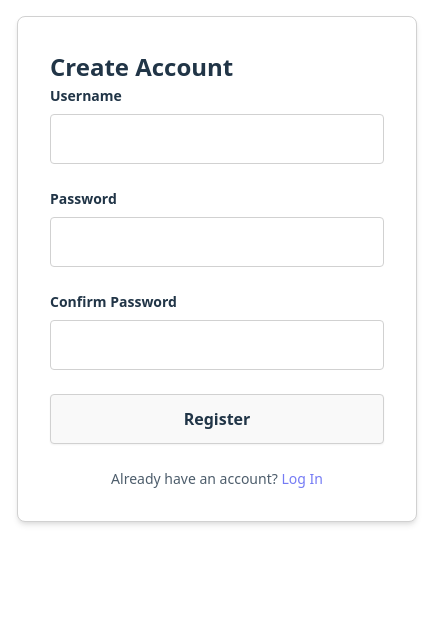
Test: SignupForm › shows validation error when passwords do not match
// --- Act ---
Type "testuser" into the field labelled "Username" at (217, 139), box [50,114,384,164]
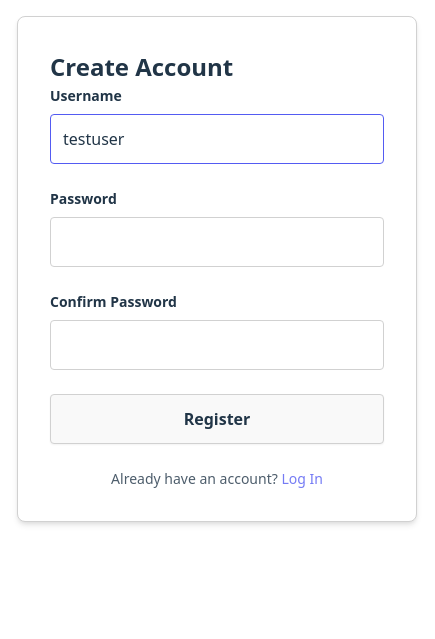
Type "Password1" into the password field labelled "Password" at (217, 242), box [50,217,384,267]
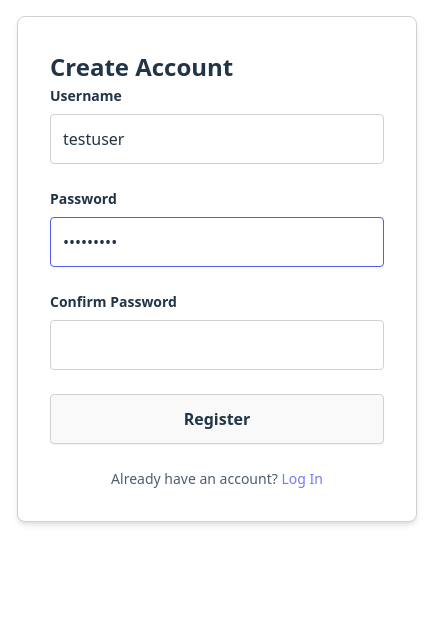
Type "Different1" into the password field labelled "Confirm Password" at (217, 345), box [50,320,384,370]
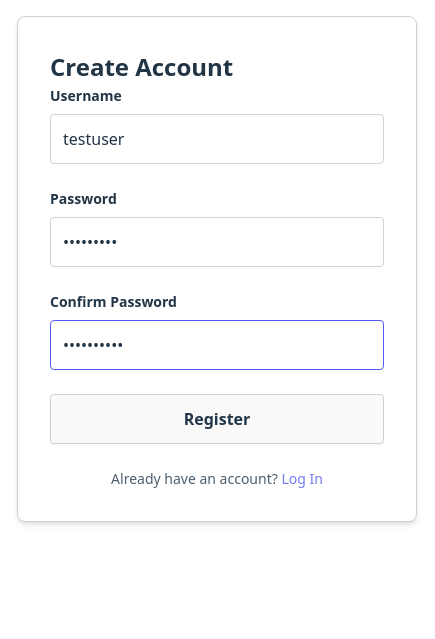
Click the button "Register" at (217, 419), box [50,394,384,444]
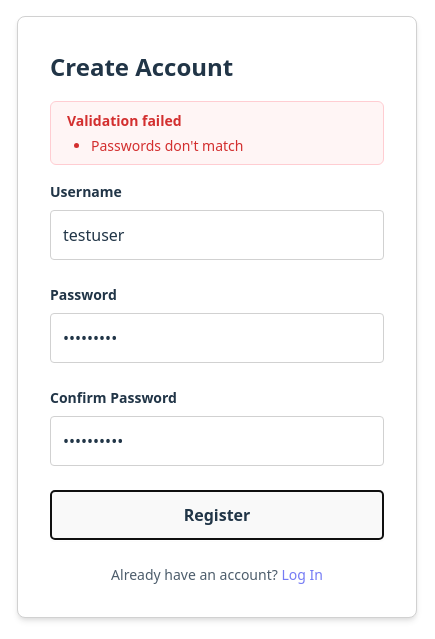
Expected: the list item "Passwords don't match" is shown, [91,136,244,155]
